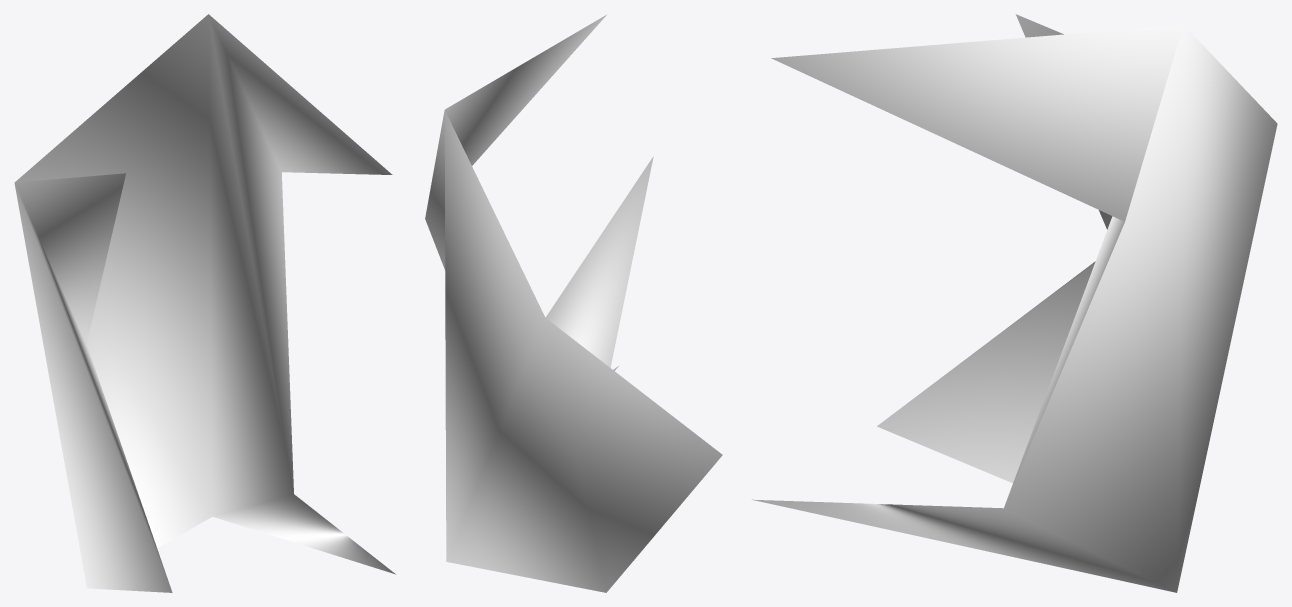
The picture shows the model from 3 angles, left to right: view 1: azimuth 30°, elevation 25°; view 2: azimuth 150°, elevation 25°; view 3: azimuth 270°, elevation 25°; orthographic projection. The views are drawn at different scales.
Bounding box in the file's own units: 0.2146 × 0.4848 × 0.3946.
1 material, 1 textured.
